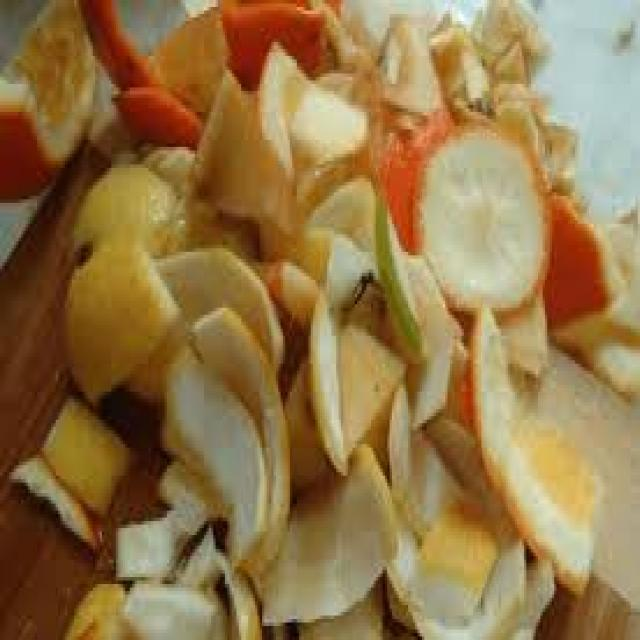organic waste: (466, 304, 598, 591), (410, 115, 548, 318), (190, 300, 283, 580), (255, 441, 397, 619), (158, 343, 260, 563), (60, 231, 179, 406), (0, 0, 97, 196), (264, 248, 344, 472), (188, 63, 297, 220), (385, 524, 524, 636), (253, 35, 364, 175), (373, 178, 443, 354), (67, 158, 181, 262), (302, 168, 381, 301), (215, 0, 338, 84), (40, 392, 126, 511), (542, 189, 616, 325), (552, 283, 638, 395), (338, 311, 406, 448), (7, 454, 100, 552), (148, 3, 225, 108), (402, 427, 468, 542), (418, 497, 497, 588), (123, 566, 223, 636), (79, 0, 158, 84), (378, 7, 441, 108), (280, 350, 324, 493), (109, 80, 202, 147), (285, 574, 383, 636), (431, 7, 487, 115), (473, 0, 545, 77), (376, 122, 420, 245), (313, 0, 378, 70), (153, 454, 218, 524), (114, 514, 178, 581), (499, 87, 547, 175), (506, 549, 556, 630), (61, 574, 126, 636), (214, 549, 258, 637), (536, 101, 577, 189), (594, 203, 638, 276), (385, 381, 413, 493), (174, 528, 216, 588), (141, 143, 195, 189)
